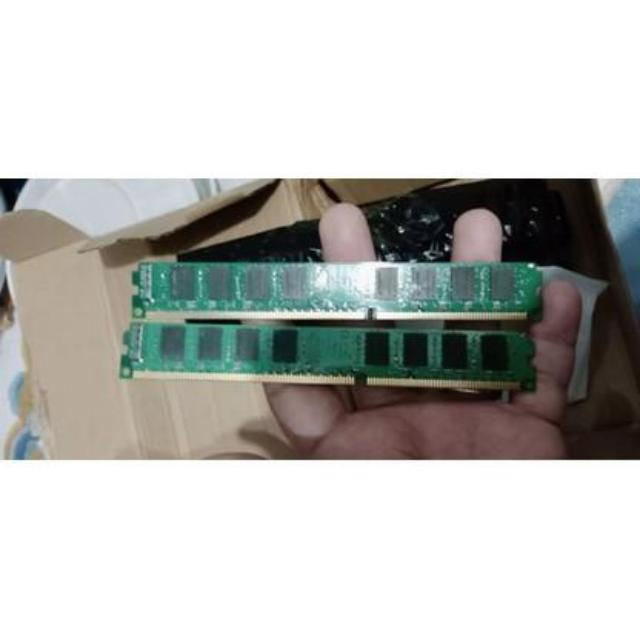RAM: (120, 247, 546, 405)
